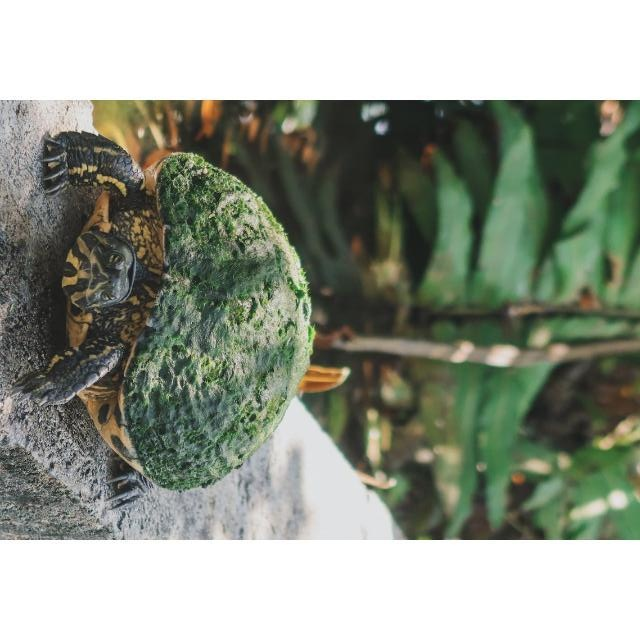turtle: (13, 127, 317, 511)
